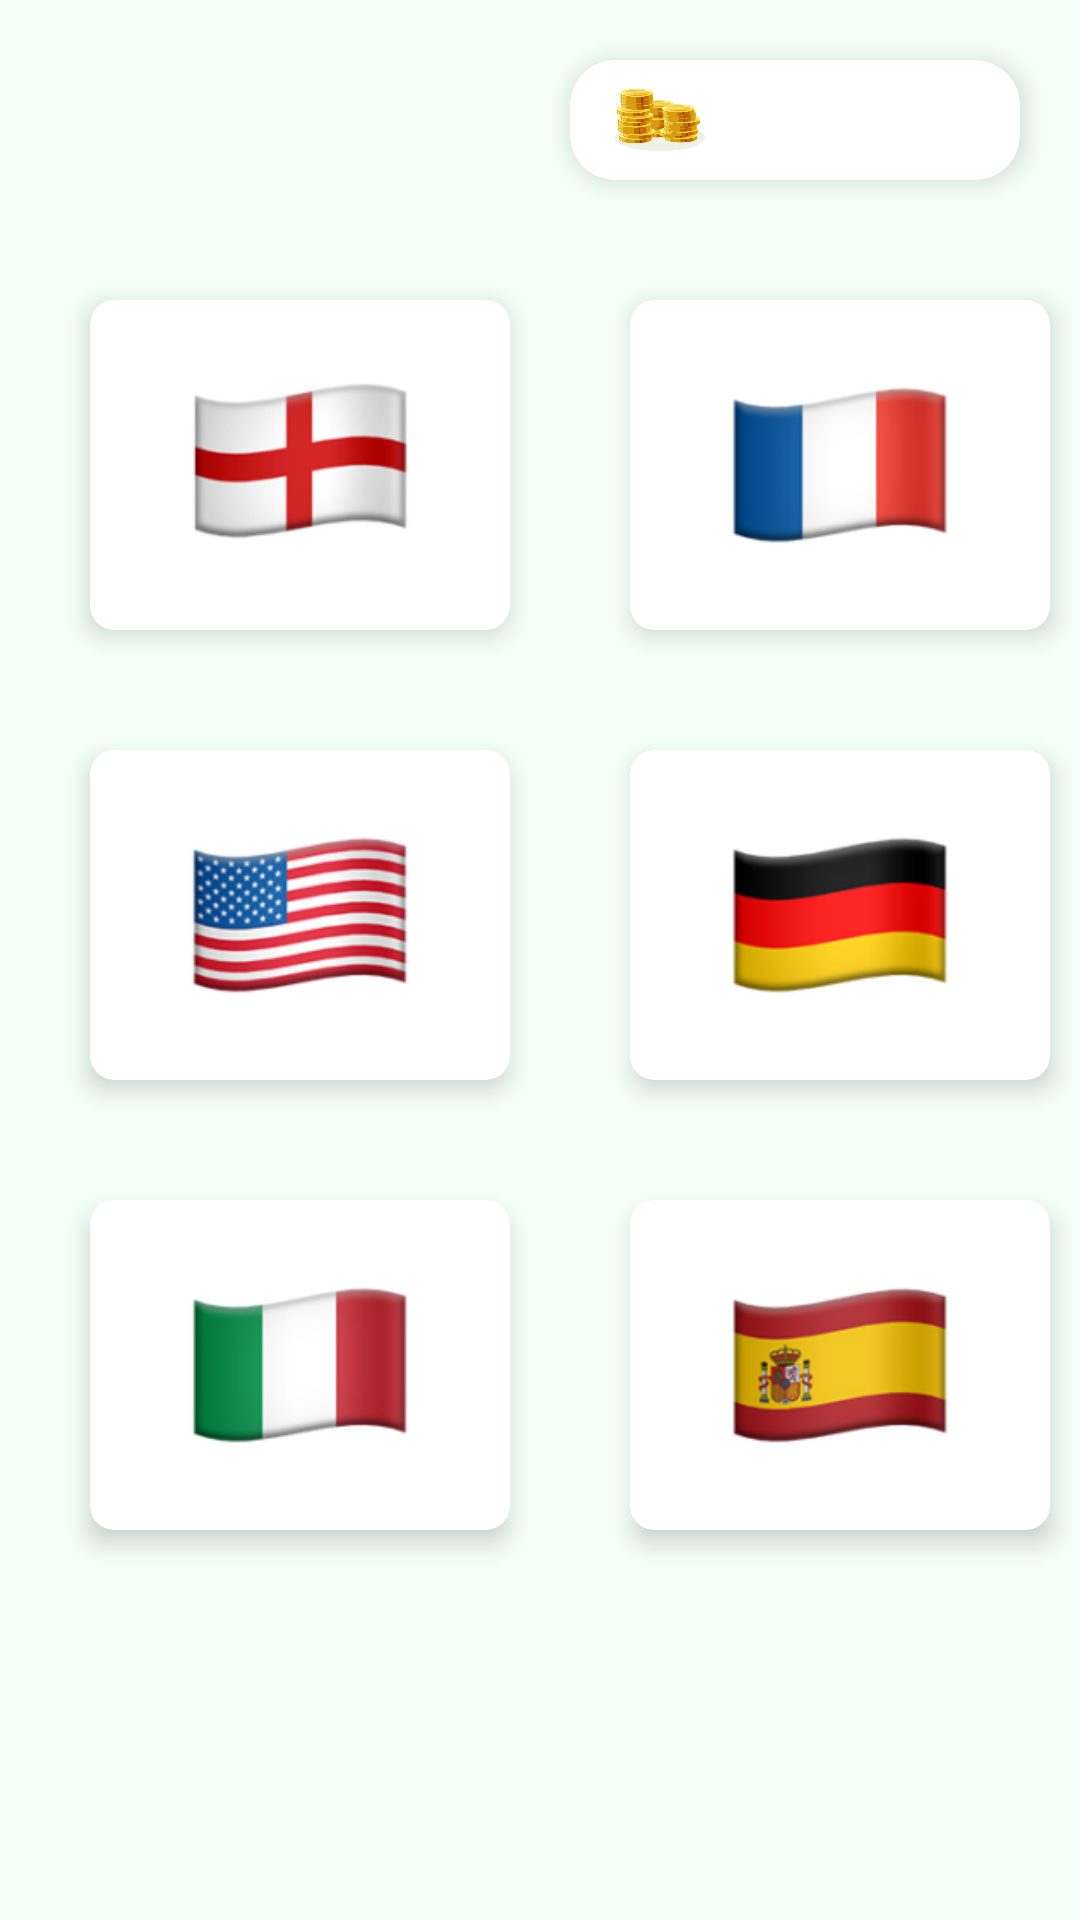

Named icons in this screenshot (1080x1920) and their centers, point (x, y):
flag: point (300, 461), point (840, 465), point (300, 915), point (840, 915), point (300, 1365), point (840, 1365)
money: point (660, 120)
